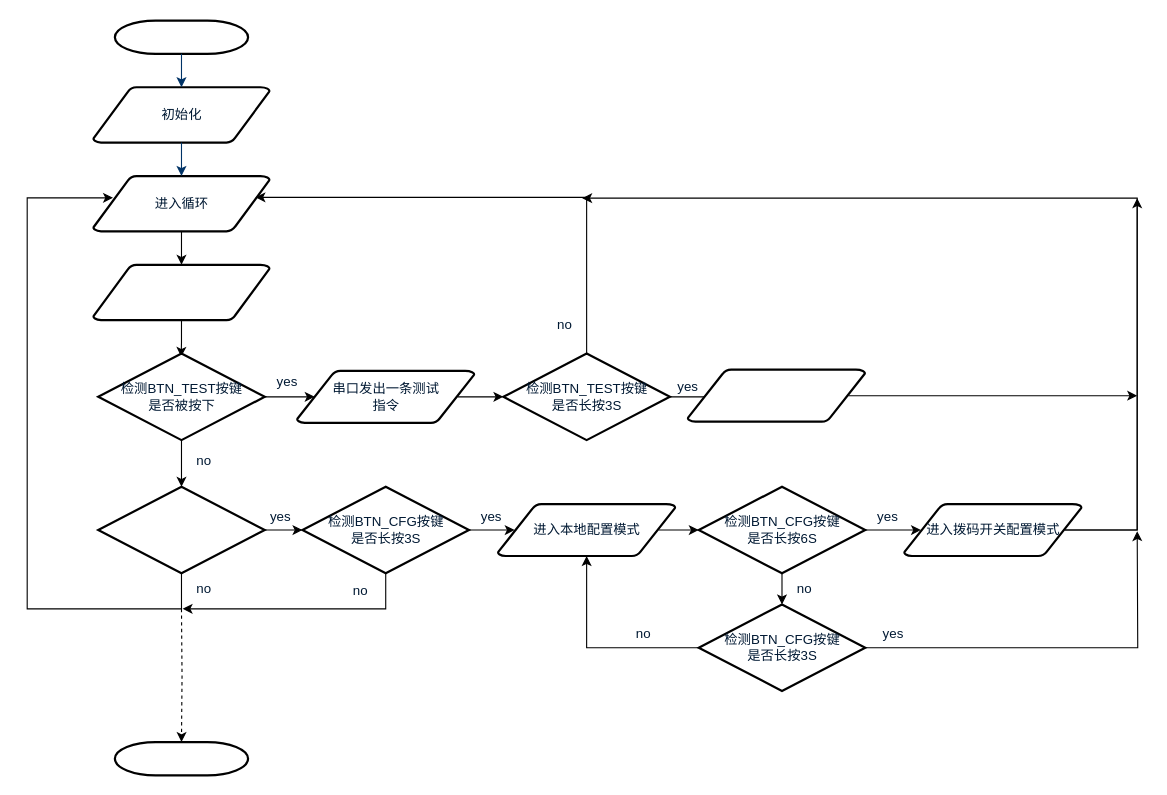
The diagram is 1167 pixels wide and 795 high, and some of its shapes have lost their labels. Here are the shapes that lost their labels. From the top down, the box of each, then its label:
(113, 19, 249, 54): 开始
(92, 263, 270, 321): 喂看门狗
(686, 368, 866, 422): 串口配置模块到特殊 信道，进入空中配置 模式
(97, 485, 265, 574): 检测BTN_CFG按键 是否被按下
(113, 740, 249, 776): 结束
